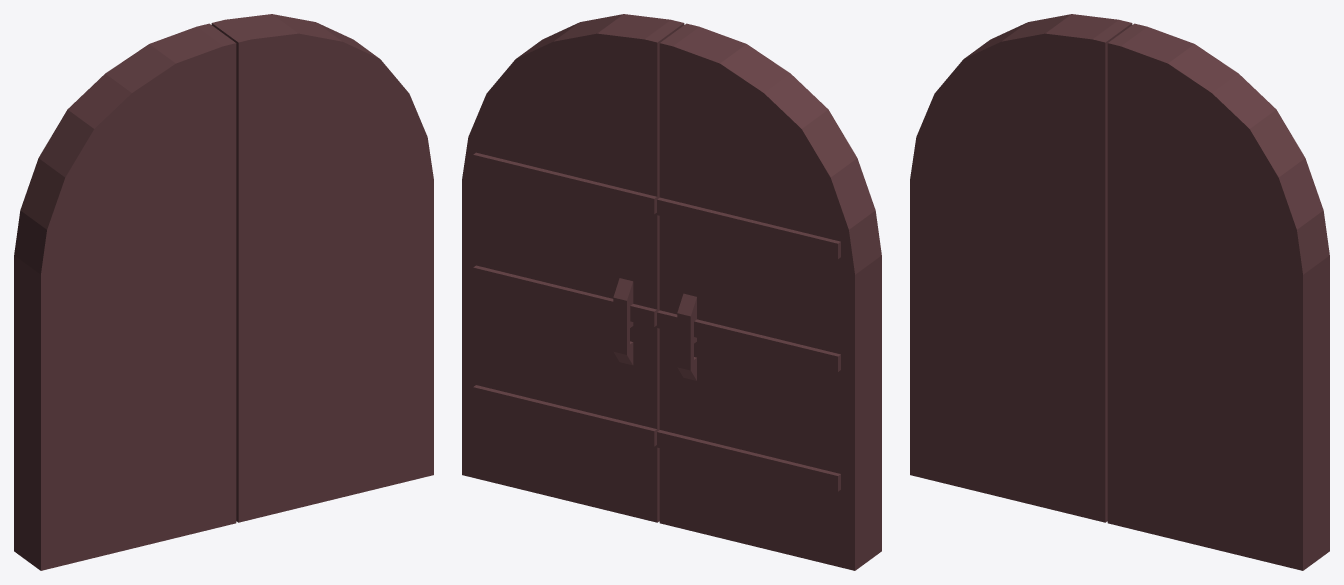
File: front_door.fbx
The picture shows the model from 3 angles, left to right: view 1: azimuth 30°, elevation 25°; view 2: azimuth 150°, elevation 25°; view 3: azimuth 330°, elevation 25°; orthographic projection.
Visible parts, largest first — view 1: Cube.004, Cube.069; view 2: Cube.004, Cube.069; view 3: Cube.069, Cube.004.
Part boxes in pixels (x1,y1,x2,y2): Cube.004: (14,23,236,570); Cube.069: (211,14,433,522); Cube.004: (657,23,881,570); Cube.069: (462,14,684,522); Cube.069: (1107,23,1329,570); Cube.004: (910,14,1132,522).
Size of the model in its own units: 220 by 257 by 32.07.
